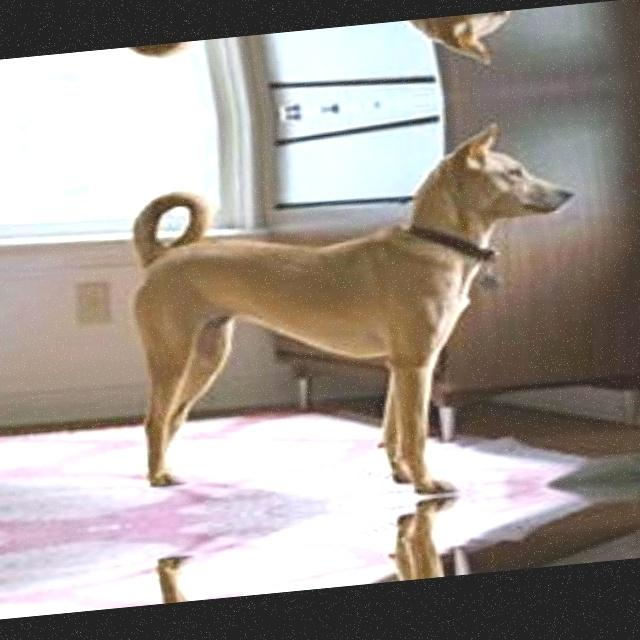dog: (98, 120, 611, 512), (135, 492, 620, 606), (86, 5, 569, 96)
